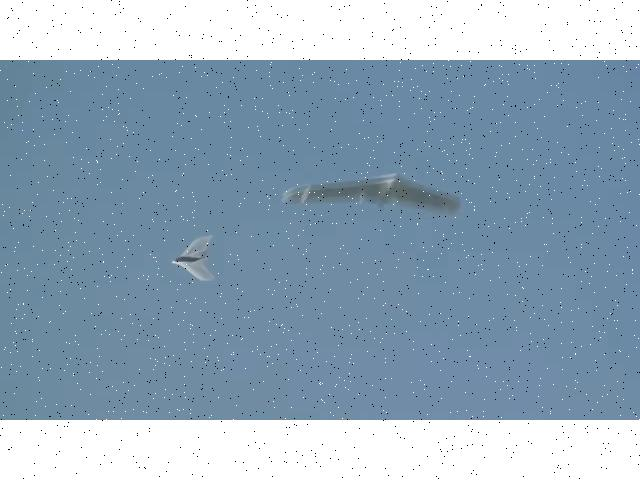Anti-Drone: (271, 152, 495, 238), (155, 229, 237, 287)
